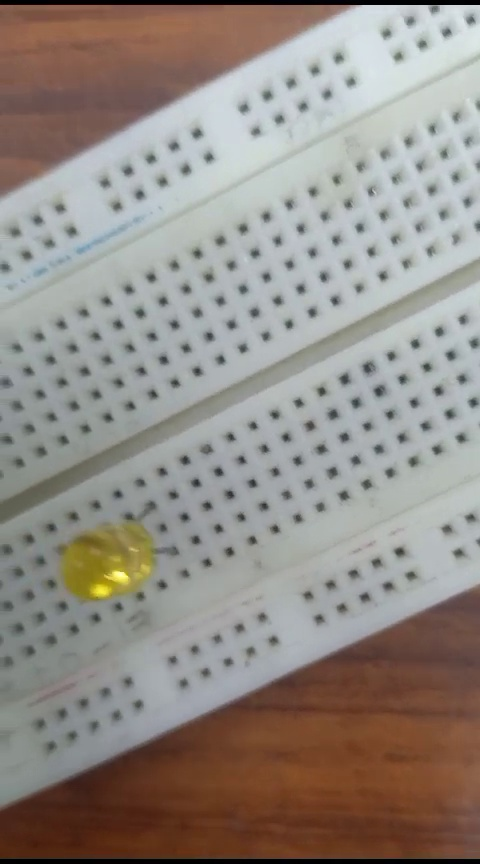LED: (55, 517, 192, 613)
